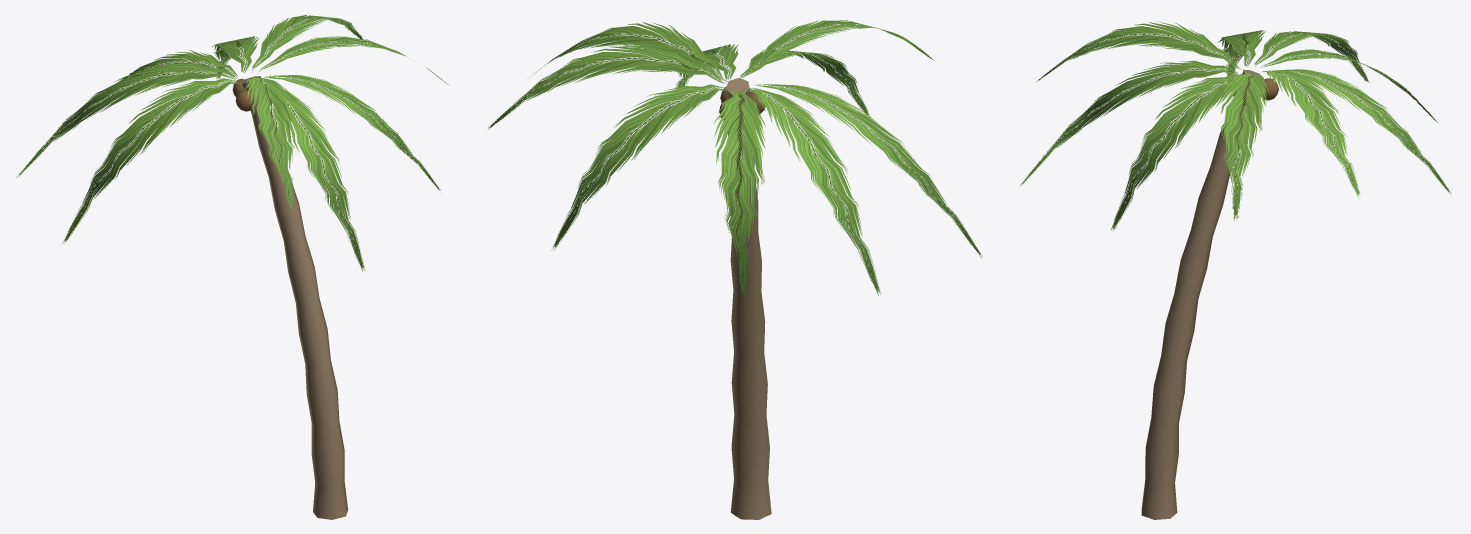
Rendered from palm_2_mid.glb.
3 views of the same model, side by side, from view 1: azimuth 30°, elevation 25°; view 2: azimuth 150°, elevation 25°; view 3: azimuth 270°, elevation 25° (orthographic). The views are drawn at different scales.
Parts seen in each view (by area): view 1: palm_2_mid; view 2: palm_2_mid; view 3: palm_2_mid.
Boxes of the visible parts, x1,y1,x2,y2 form: palm_2_mid: (16,15,448,519); palm_2_mid: (486,20,982,519); palm_2_mid: (1020,22,1450,519).
Size of the model in its own units: 6.79 by 7.2 by 6.32.
Materials: 3 (1 with a texture image).
